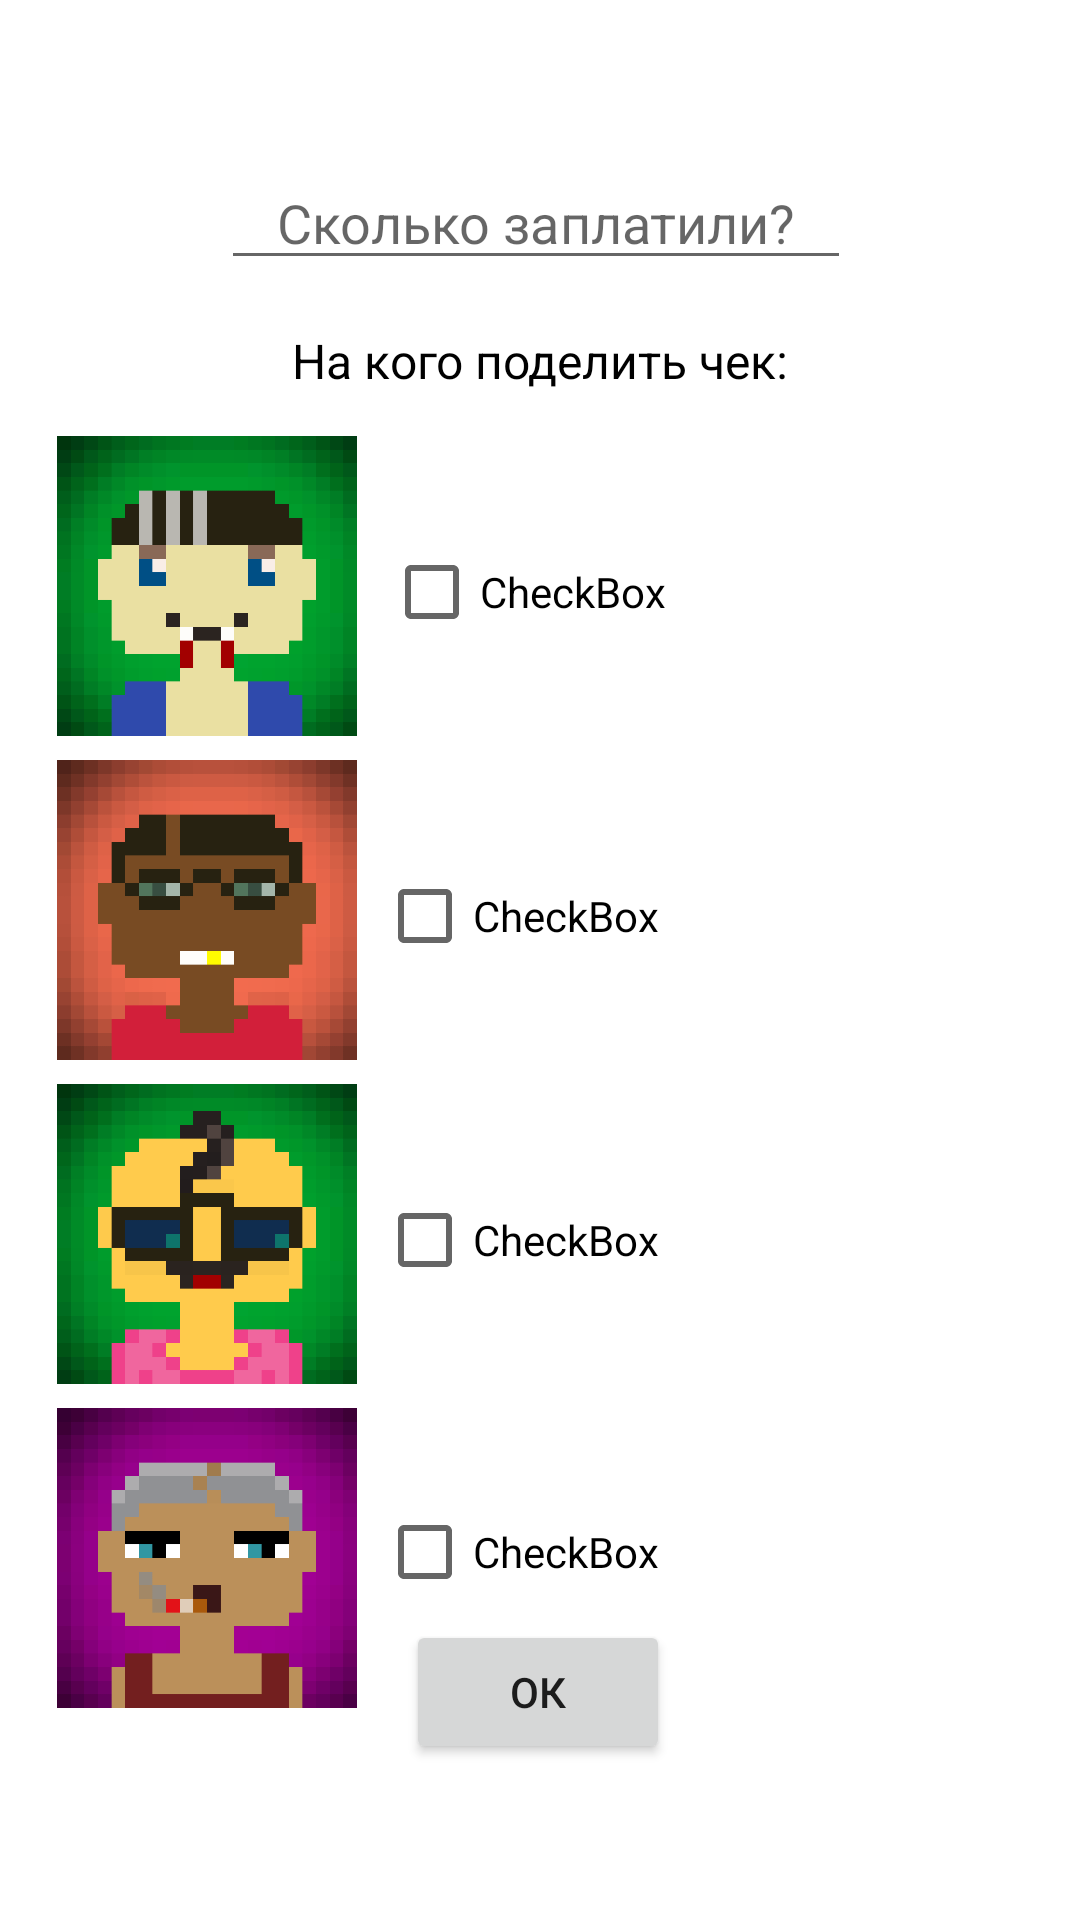

Where to tap for icons on this 1080×1920 app screen, as (x,y):
person: (207,586), (207,910), (207,1234), (207,1558)
